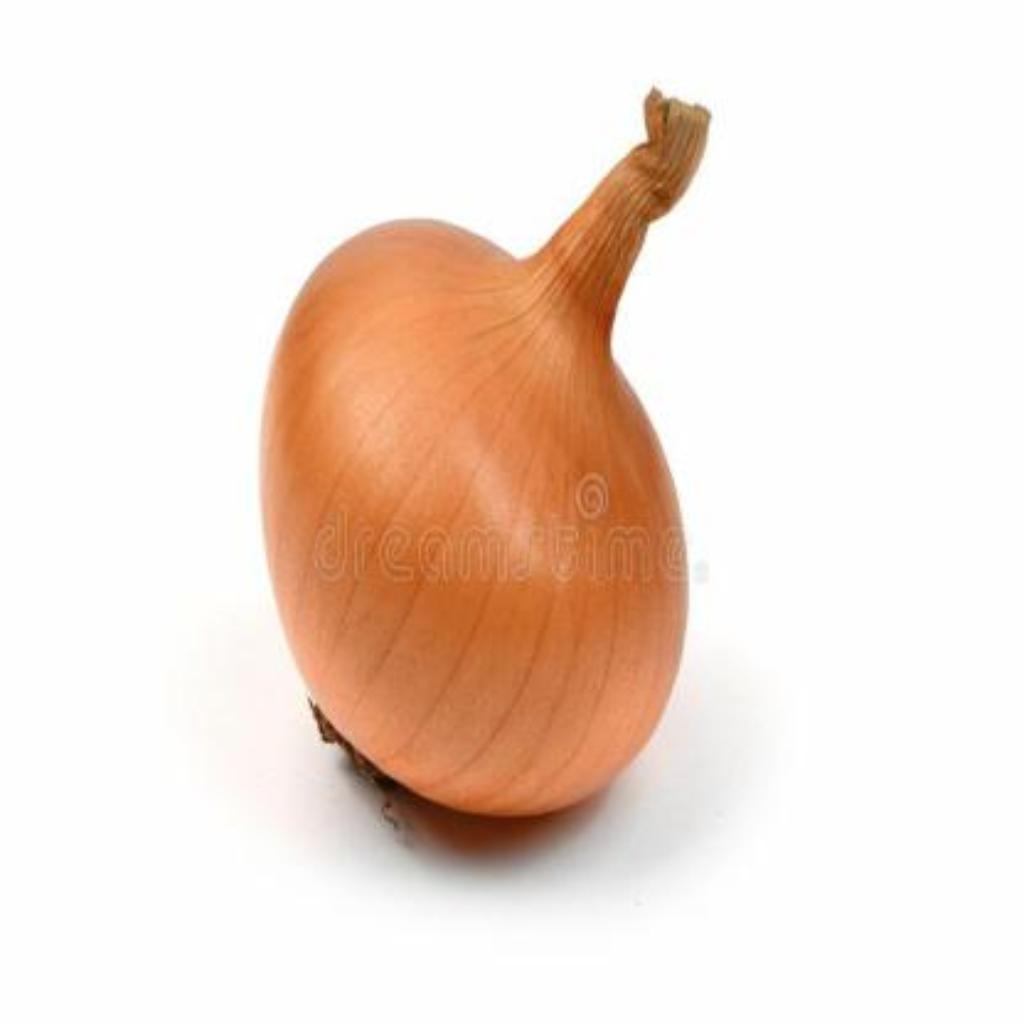Onion: (261, 89, 711, 818)
